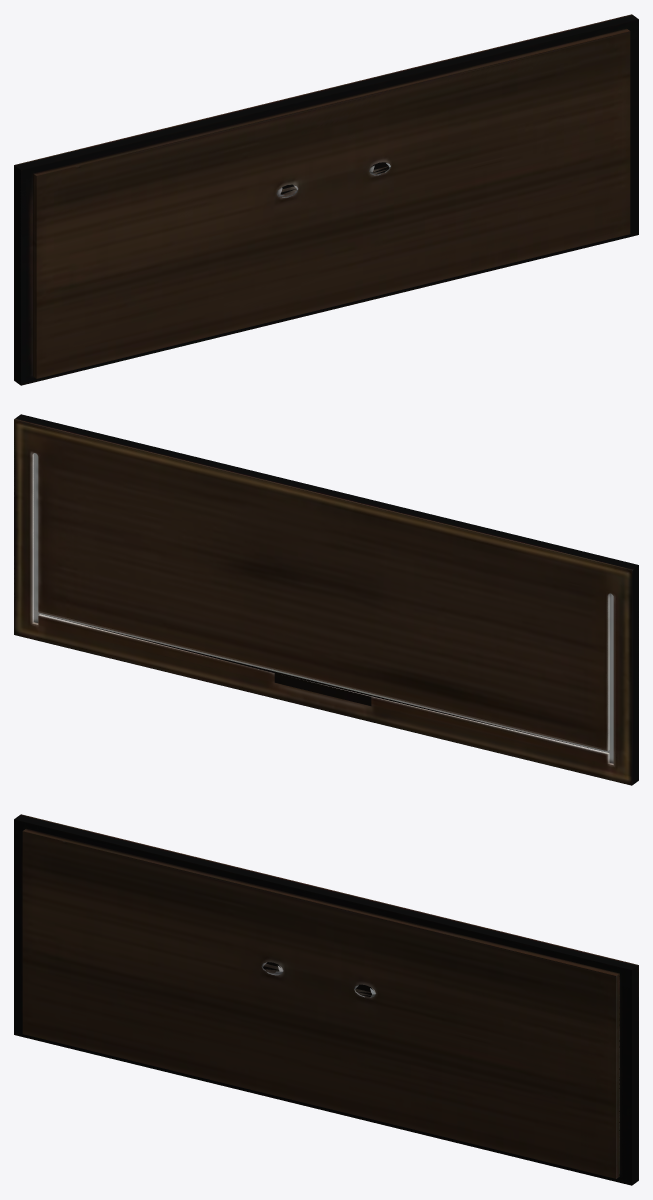
Rendered from link_3__drawer_front-123.glb.
The picture shows the model from 3 angles, top to bottom: view 1: azimuth 30°, elevation 25°; view 2: azimuth 150°, elevation 25°; view 3: azimuth 330°, elevation 25°; orthographic projection.
Visible parts, largest first — view 1: world; view 2: world; view 3: world.
Part boxes in pixels (box(x1,y1,x2,y2)): world: box(14, 14, 638, 385); world: box(14, 414, 638, 785); world: box(14, 814, 638, 1185).
Bounding box in the file's own units: 0.5356 × 0.1785 × 0.0196.
1 material, 1 textured.
